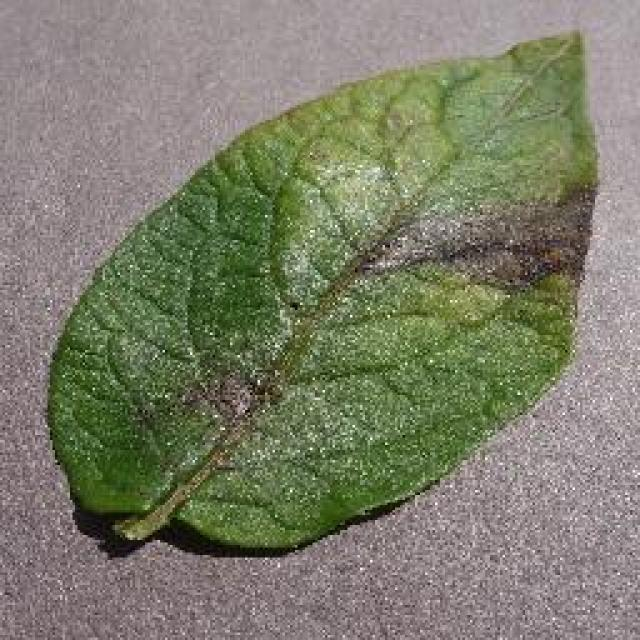late_blight: (40, 25, 602, 555)
